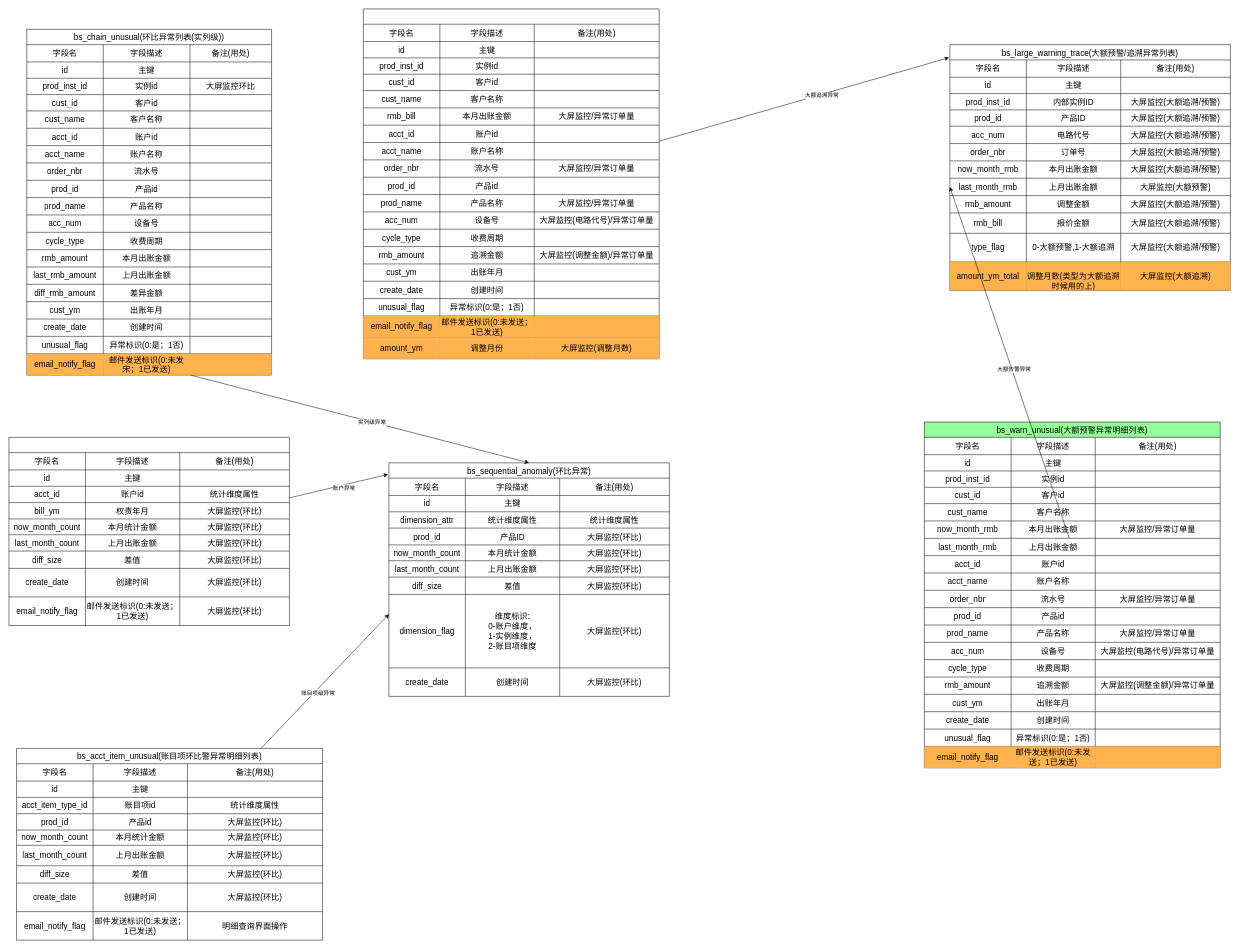
Image size: 1239x949. Some labels were removed from this diagram. The shapes that lost their labels are listed below. From the top down, each one's box as (x1, y1, x2, y2) in pixels, then its label:
(363, 8, 659, 359): bs_retrospect_unusual(大额追溯异常列表)
(8, 437, 289, 626): bs_account_unusual(账户环比警异常明细列表)
